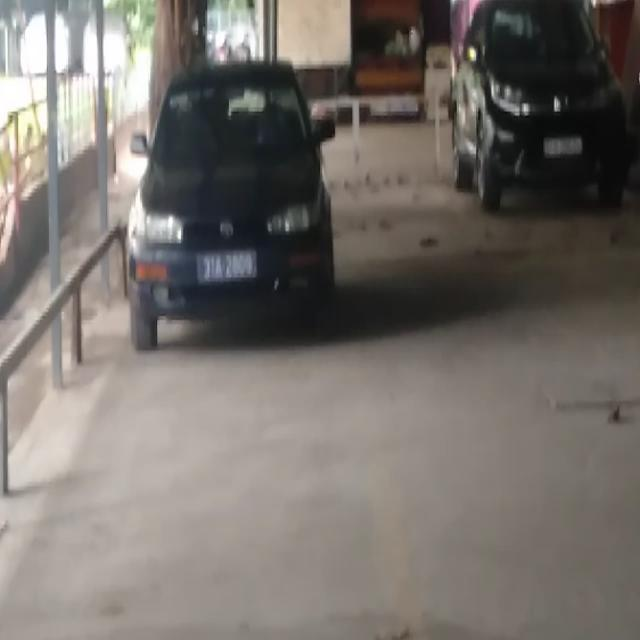bien_xanh: (195, 250, 259, 284)
